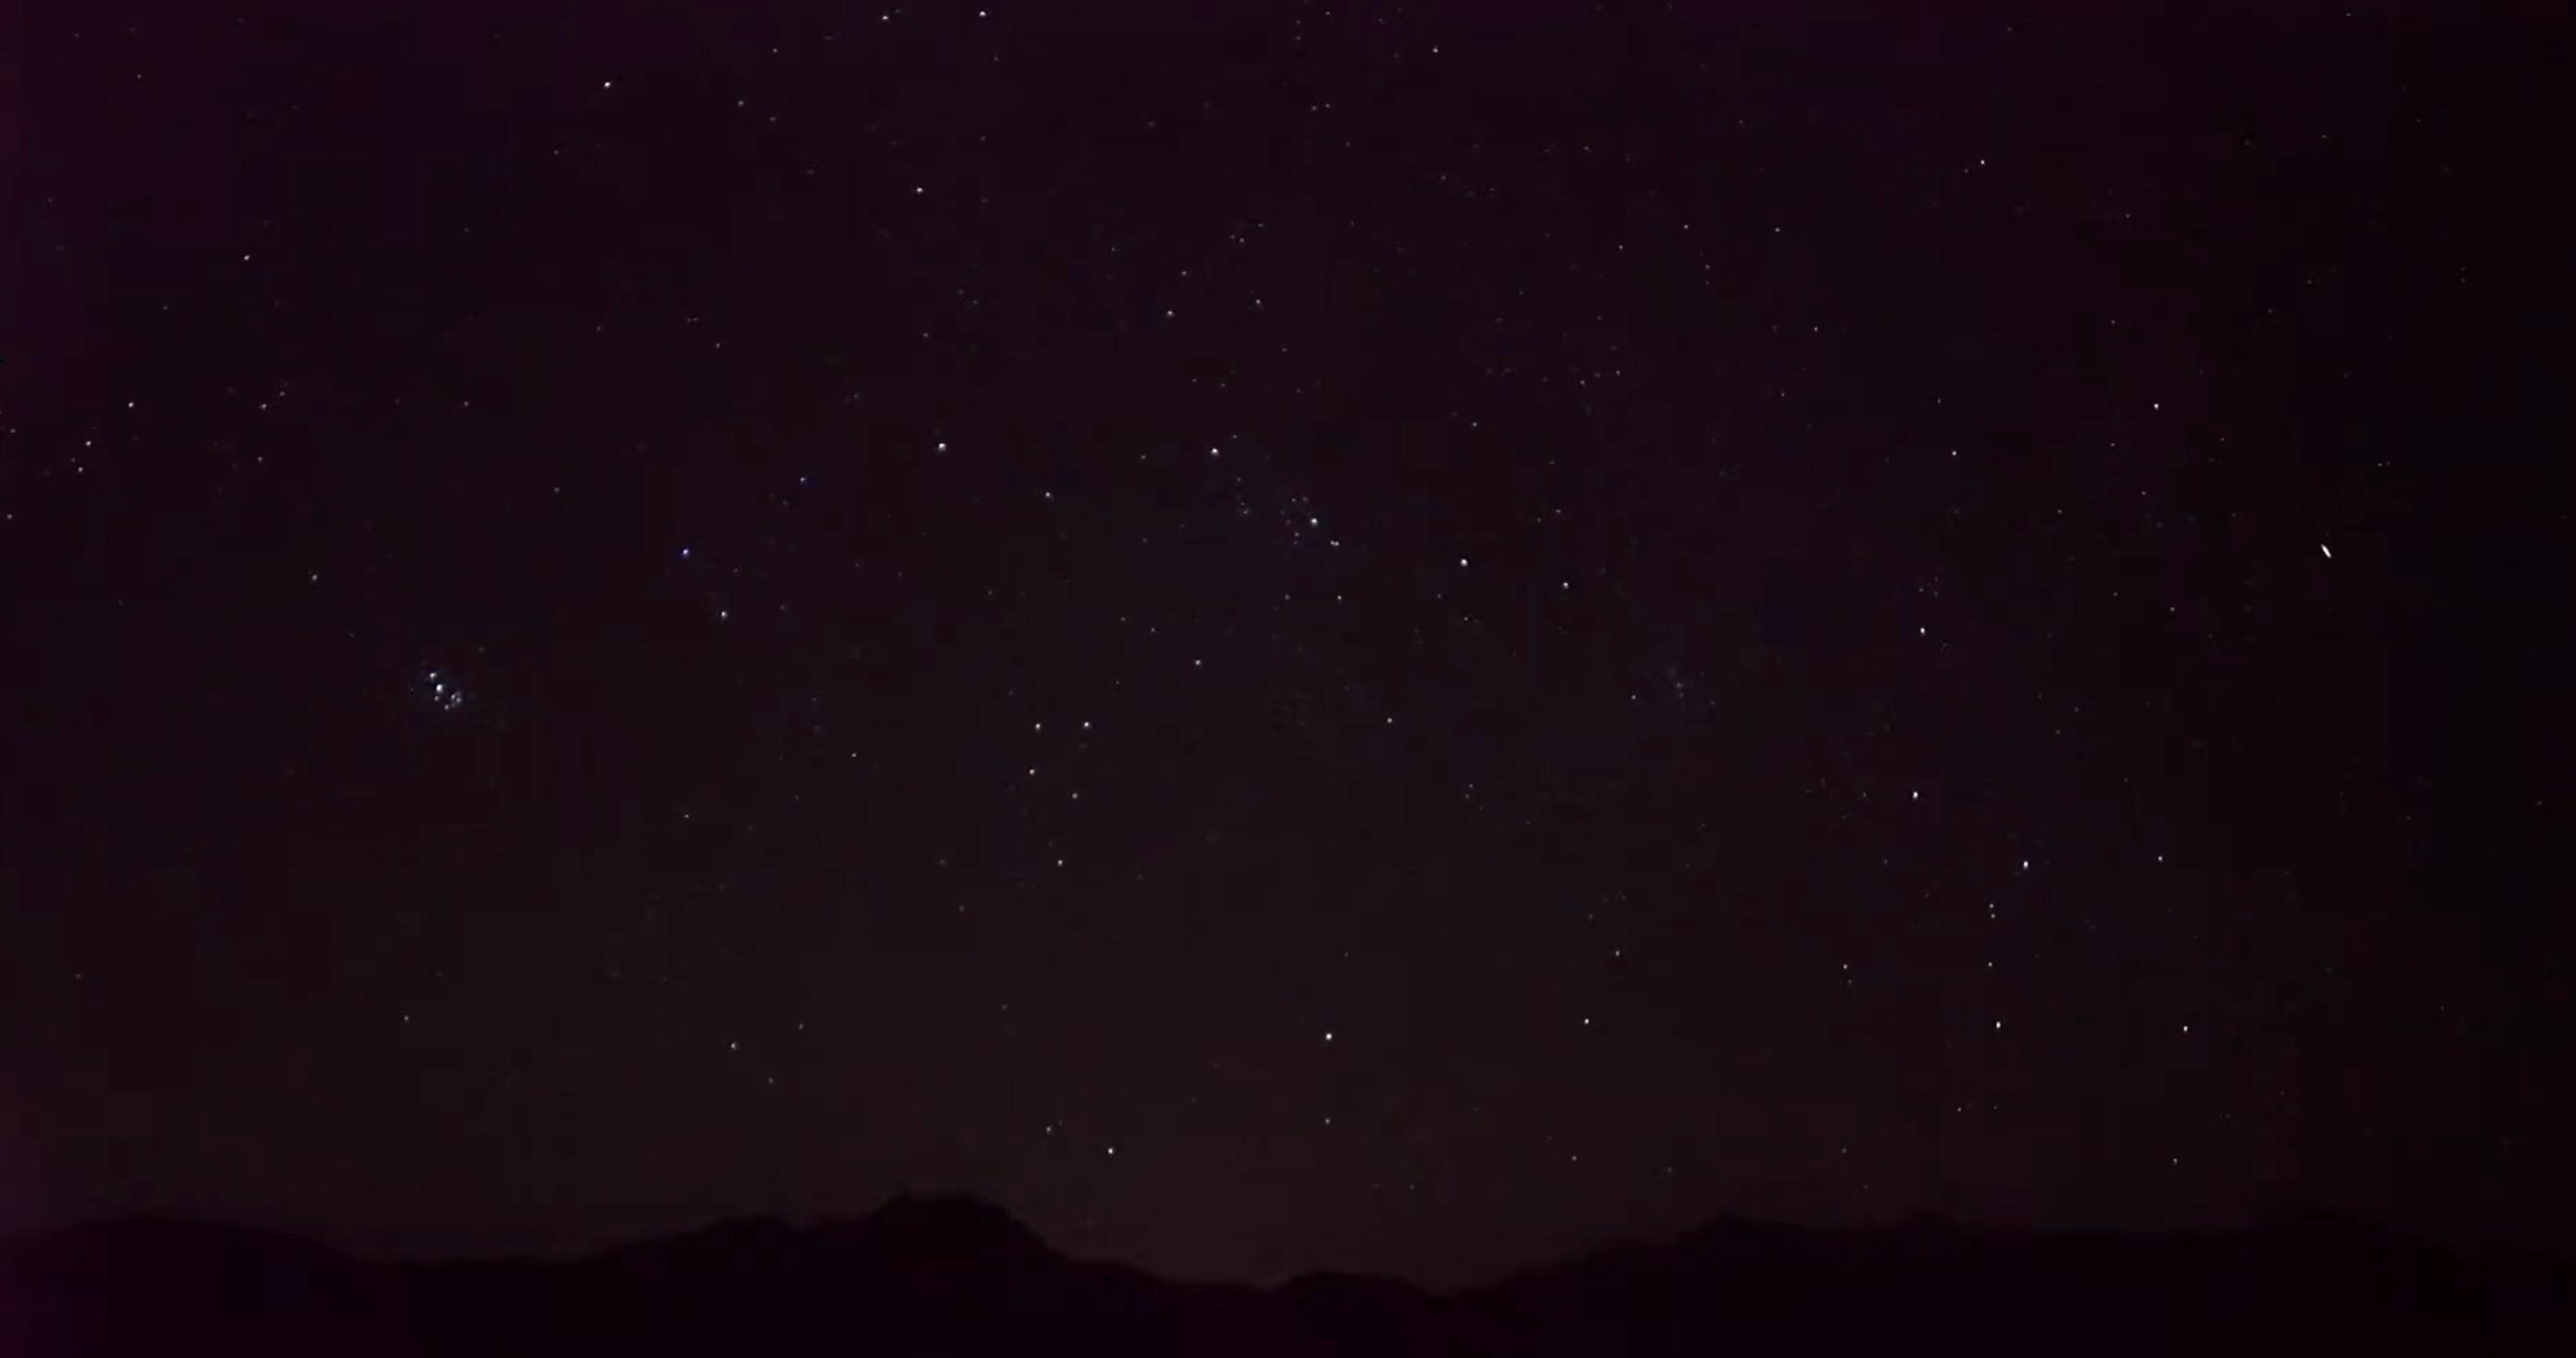meteorite: (2307, 533, 2348, 581)
